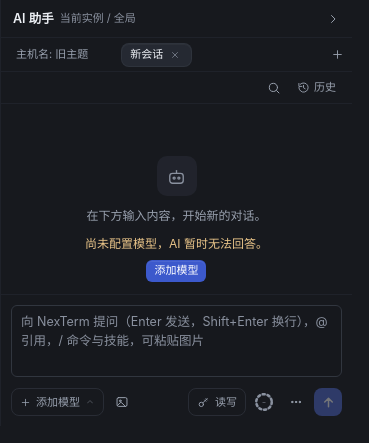
Test: AiSidebar tab context menu › disables menu items for tabs without a bound conversation
This screenshot has width=369, height=443.
Right-click the tab "新会话".
right_click(157, 54)  # box [121,42,192,66]
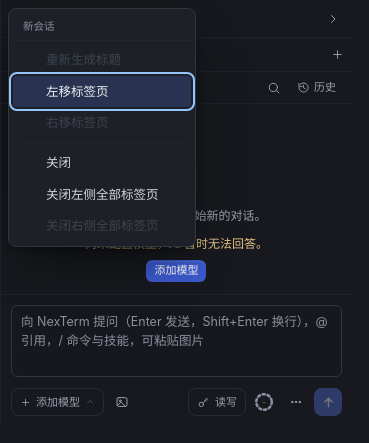
Now the menu item "重新生成标题" is disabled, box [13,44,191,76]
